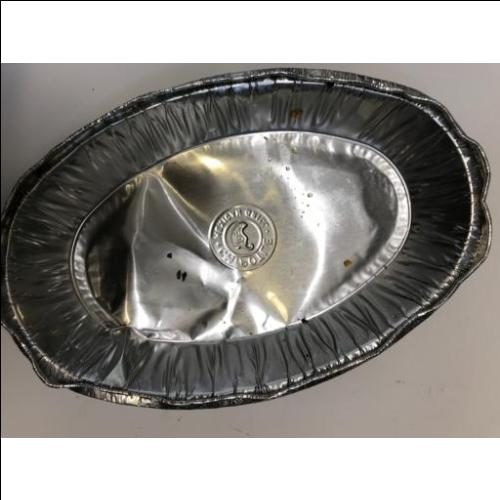metal: (0, 67, 492, 411)
